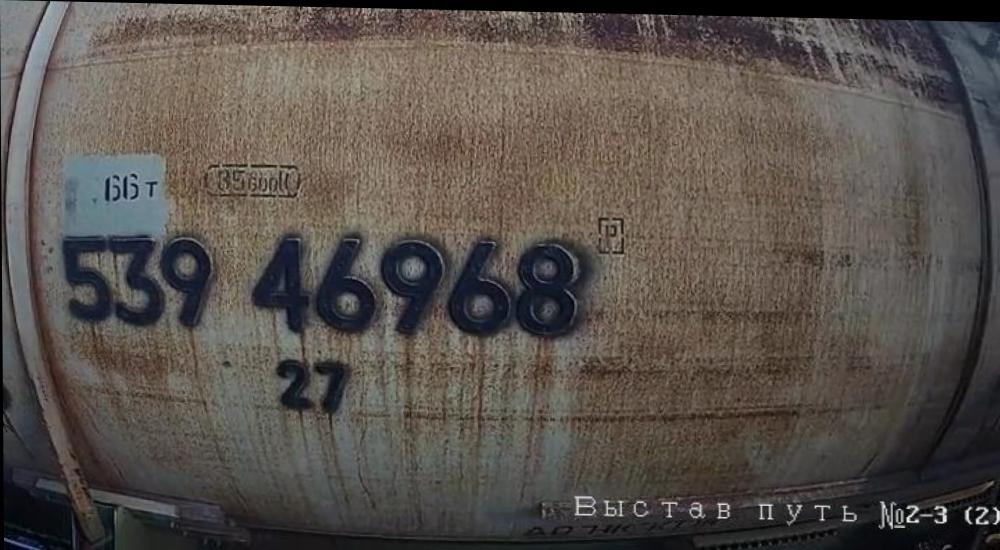Wagon-number: (60, 222, 592, 342)
